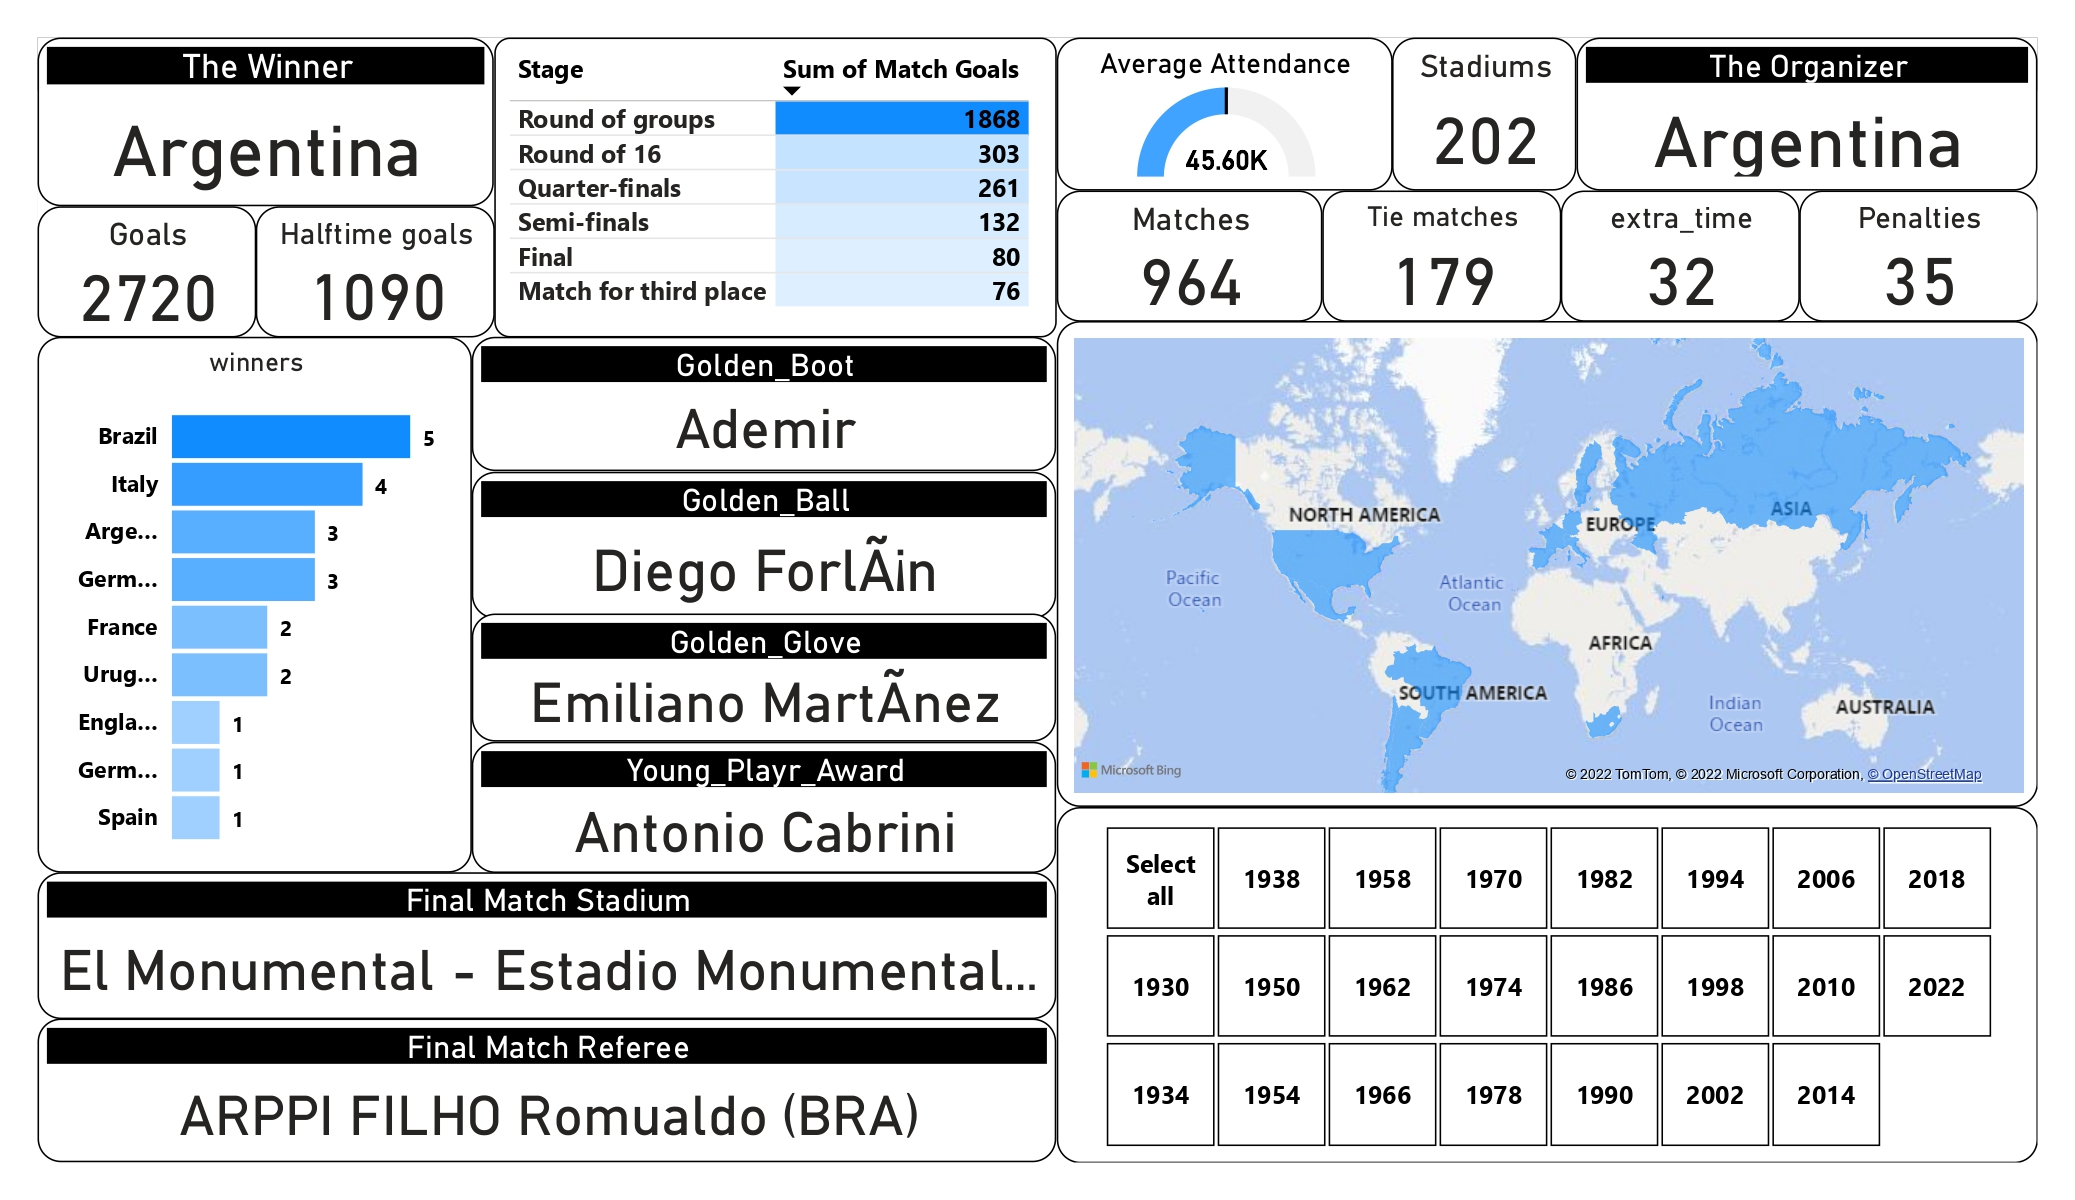

The page's visual inventory and layout, read from the dashboard file:
{"tool":"powerbi","page":{"name":"Dashboard","canvas":[1280,720],"ordinal":0},"visuals":[{"type":"card","title":"The Winner","fields":{"Values":["Min(Year.Winner)"]},"box":[0,0,292.3,108],"z":0},{"type":"card","title":"The Organizer","fields":{"Values":["Min(Year.Name)"]},"box":[985,0,295.2,97.9],"z":1000},{"type":"card","title":"Goals","fields":{"Values":["Sum(WorldCupMatches.Match Goals)"]},"box":[0,108,139.7,83.5],"z":2000},{"type":"card","title":"Halftime goals","fields":{"Values":["Sum(WorldCupMatches.Half-time Goals)"]},"box":[139.7,108,152.6,83.5],"z":3000},{"type":"card","title":"Matches","fields":{"Values":["Information.Matches"]},"box":[652.3,97.9,169.9,83.5],"z":4000},{"type":"card","title":"Stadiums","fields":{"Values":["Information.Stadium"]},"box":[866.9,0,118.1,97.9],"z":5000},{"type":"gauge","fields":{"Y":["Information.Average Attendance"]},"box":[652.3,0,214.6,97.9],"z":6000},{"type":"card","title":"Final Match Stadium","fields":{"Values":["Min(Year.final stadium)"]},"box":[0,534.2,652.3,93.6],"z":7000},{"type":"card","title":"Final Match Referee","fields":{"Values":["Min(Year.Final Referee)"]},"box":[0,627.8,652.3,92.2],"z":8000},{"type":"card","title":"Tie matches","fields":{"Values":["Information.tie matches"]},"box":[822.2,97.9,152.6,83.5],"z":9000},{"type":"card","title":"extra_time","fields":{"Values":["Information.Extra_time"]},"box":[974.9,97.9,152.6,83.5],"z":10000},{"type":"card","title":"Penalties","fields":{"Values":["Information.Penalties"]},"box":[1127.5,97.9,152.6,83.5],"z":11000},{"type":"card","title":"Golden_Boot","fields":{"Values":["Min(Year.Golden _Boot)"]},"box":[277.9,191.5,374.4,86.4],"z":12000},{"type":"card","title":"Golden_Ball","fields":{"Values":["Min(Year.Golden _Ball)"]},"box":[277.9,277.9,374.4,93.6],"z":13000},{"type":"card","title":"Golden_Glove","fields":{"Values":["Min(Year.Golden _Glove)"]},"box":[277.9,368.6,374.4,82.1],"z":14000},{"type":"card","title":"Young_Playr_Award","fields":{"Values":["Min(Year.FIFA _Young _Player_ Award)"]},"box":[277.9,450.7,374.4,83.5],"z":15000},{"type":"slicer","fields":{"Values":["Year.Year"]},"box":[652.3,492.5,627.8,227.5],"z":16000},{"type":"filledMap","fields":{"Category":["Location.Country"]},"box":[652.3,181.4,627.8,311],"z":17000},{"type":"barChart","title":"winners","fields":{"Category":["Year.Winner"],"Y":["Information.no.of win"]},"box":[0,191.5,277.9,342.7],"z":18000},{"type":"tableEx","fields":{"Values":["WorldCupMatches.Stage","Sum(WorldCupMatches.Match Goals)"]},"box":[292.3,0,360,191.5],"z":19000}]}

Visuals, with their boxes in screenshot pixels (x1, y1, x2, y2):
"The Winner" card: (43, 43, 494, 210)
"The Organizer" card: (1562, 43, 2017, 194)
"Goals" card: (43, 210, 259, 339)
"Halftime goals" card: (259, 210, 494, 339)
"Matches" card: (1049, 194, 1311, 323)
"Stadiums" card: (1380, 43, 1562, 194)
gauge - Information.Average Attendance: (1049, 43, 1380, 194)
"Final Match Stadium" card: (43, 867, 1049, 1011)
"Final Match Referee" card: (43, 1011, 1049, 1153)
"Tie matches" card: (1311, 194, 1546, 323)
"extra_time" card: (1547, 194, 1782, 323)
"Penalties" card: (1782, 194, 2017, 323)
"Golden_Boot" card: (472, 339, 1049, 472)
"Golden_Ball" card: (472, 472, 1049, 616)
"Golden_Glove" card: (472, 612, 1049, 738)
"Young_Playr_Award" card: (472, 738, 1049, 867)
slicer - Year.Year: (1049, 803, 2017, 1153)
filledMap - Location.Country: (1049, 323, 2017, 803)
"winners" barChart: (43, 339, 472, 867)
tableEx - WorldCupMatches.Stage x Sum(WorldCupMatches.Match Goals): (494, 43, 1049, 339)
